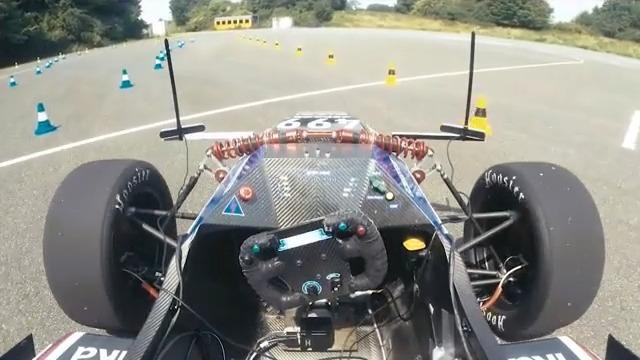blue_cone: (32, 101, 61, 136), (116, 68, 135, 90), (150, 56, 164, 71), (8, 75, 18, 88), (158, 50, 167, 63)
yellow_cone: (468, 97, 491, 136), (384, 62, 399, 88), (325, 50, 336, 64)
